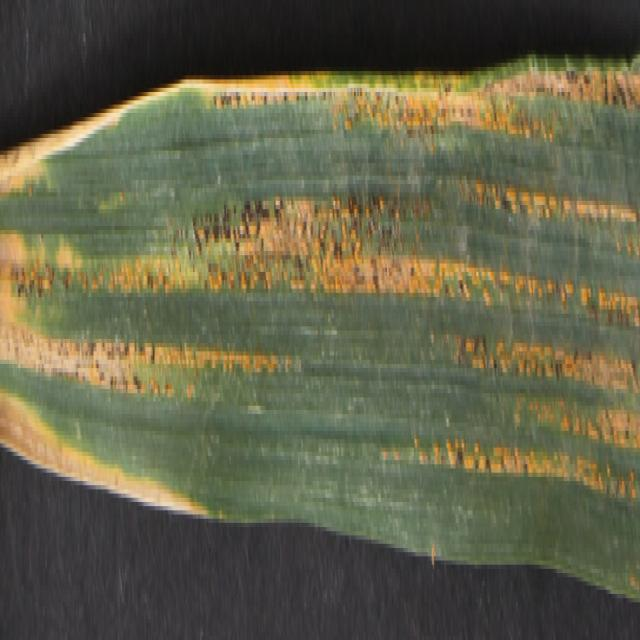leaf rust: (52, 76, 640, 510)
